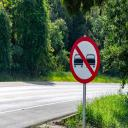NoUltrapassar: (68, 34, 102, 88)
